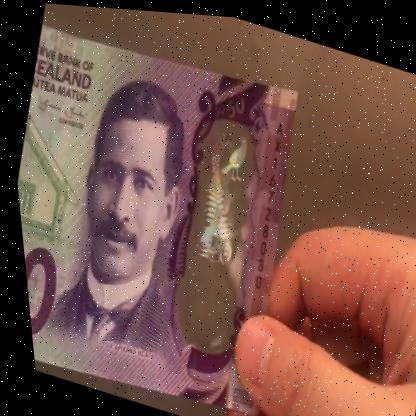50F: (158, 112, 271, 335)
